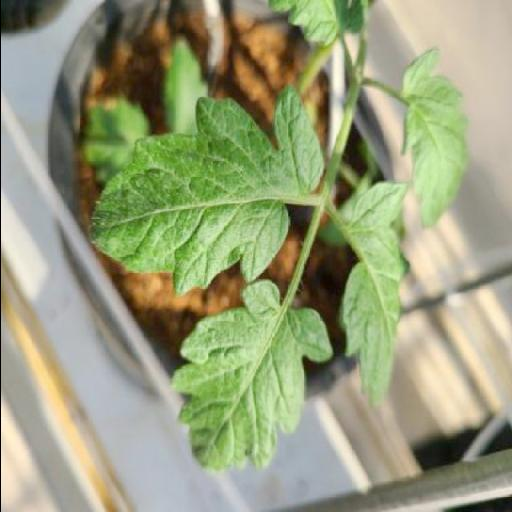Healthy: (88, 86, 322, 296), (172, 280, 332, 470), (342, 180, 407, 408), (402, 49, 466, 227)
